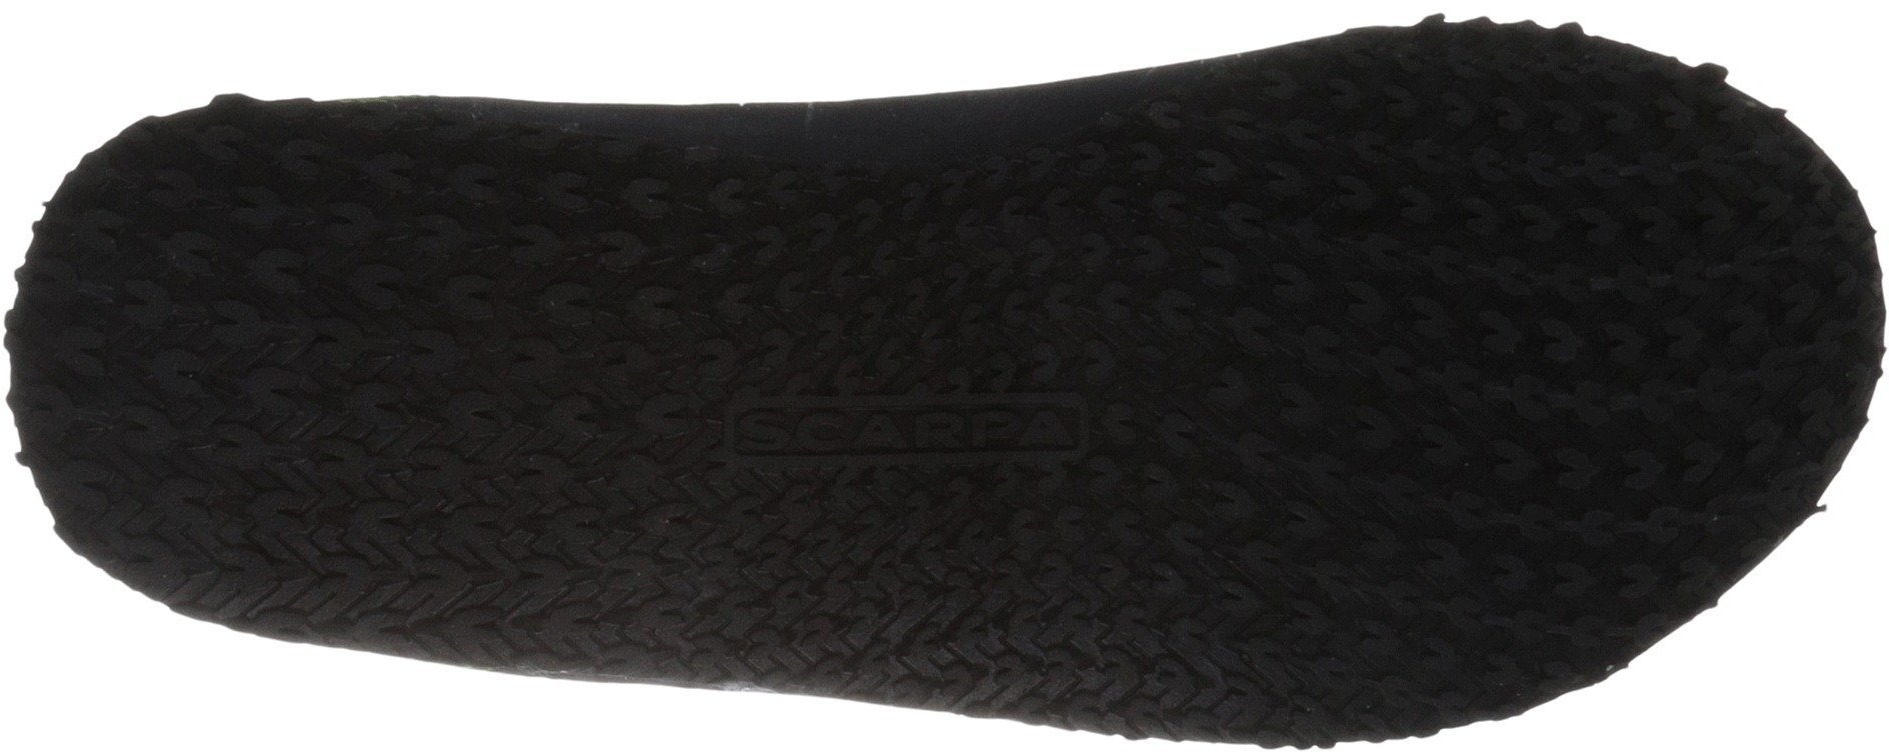text: (698, 392, 1148, 478)
